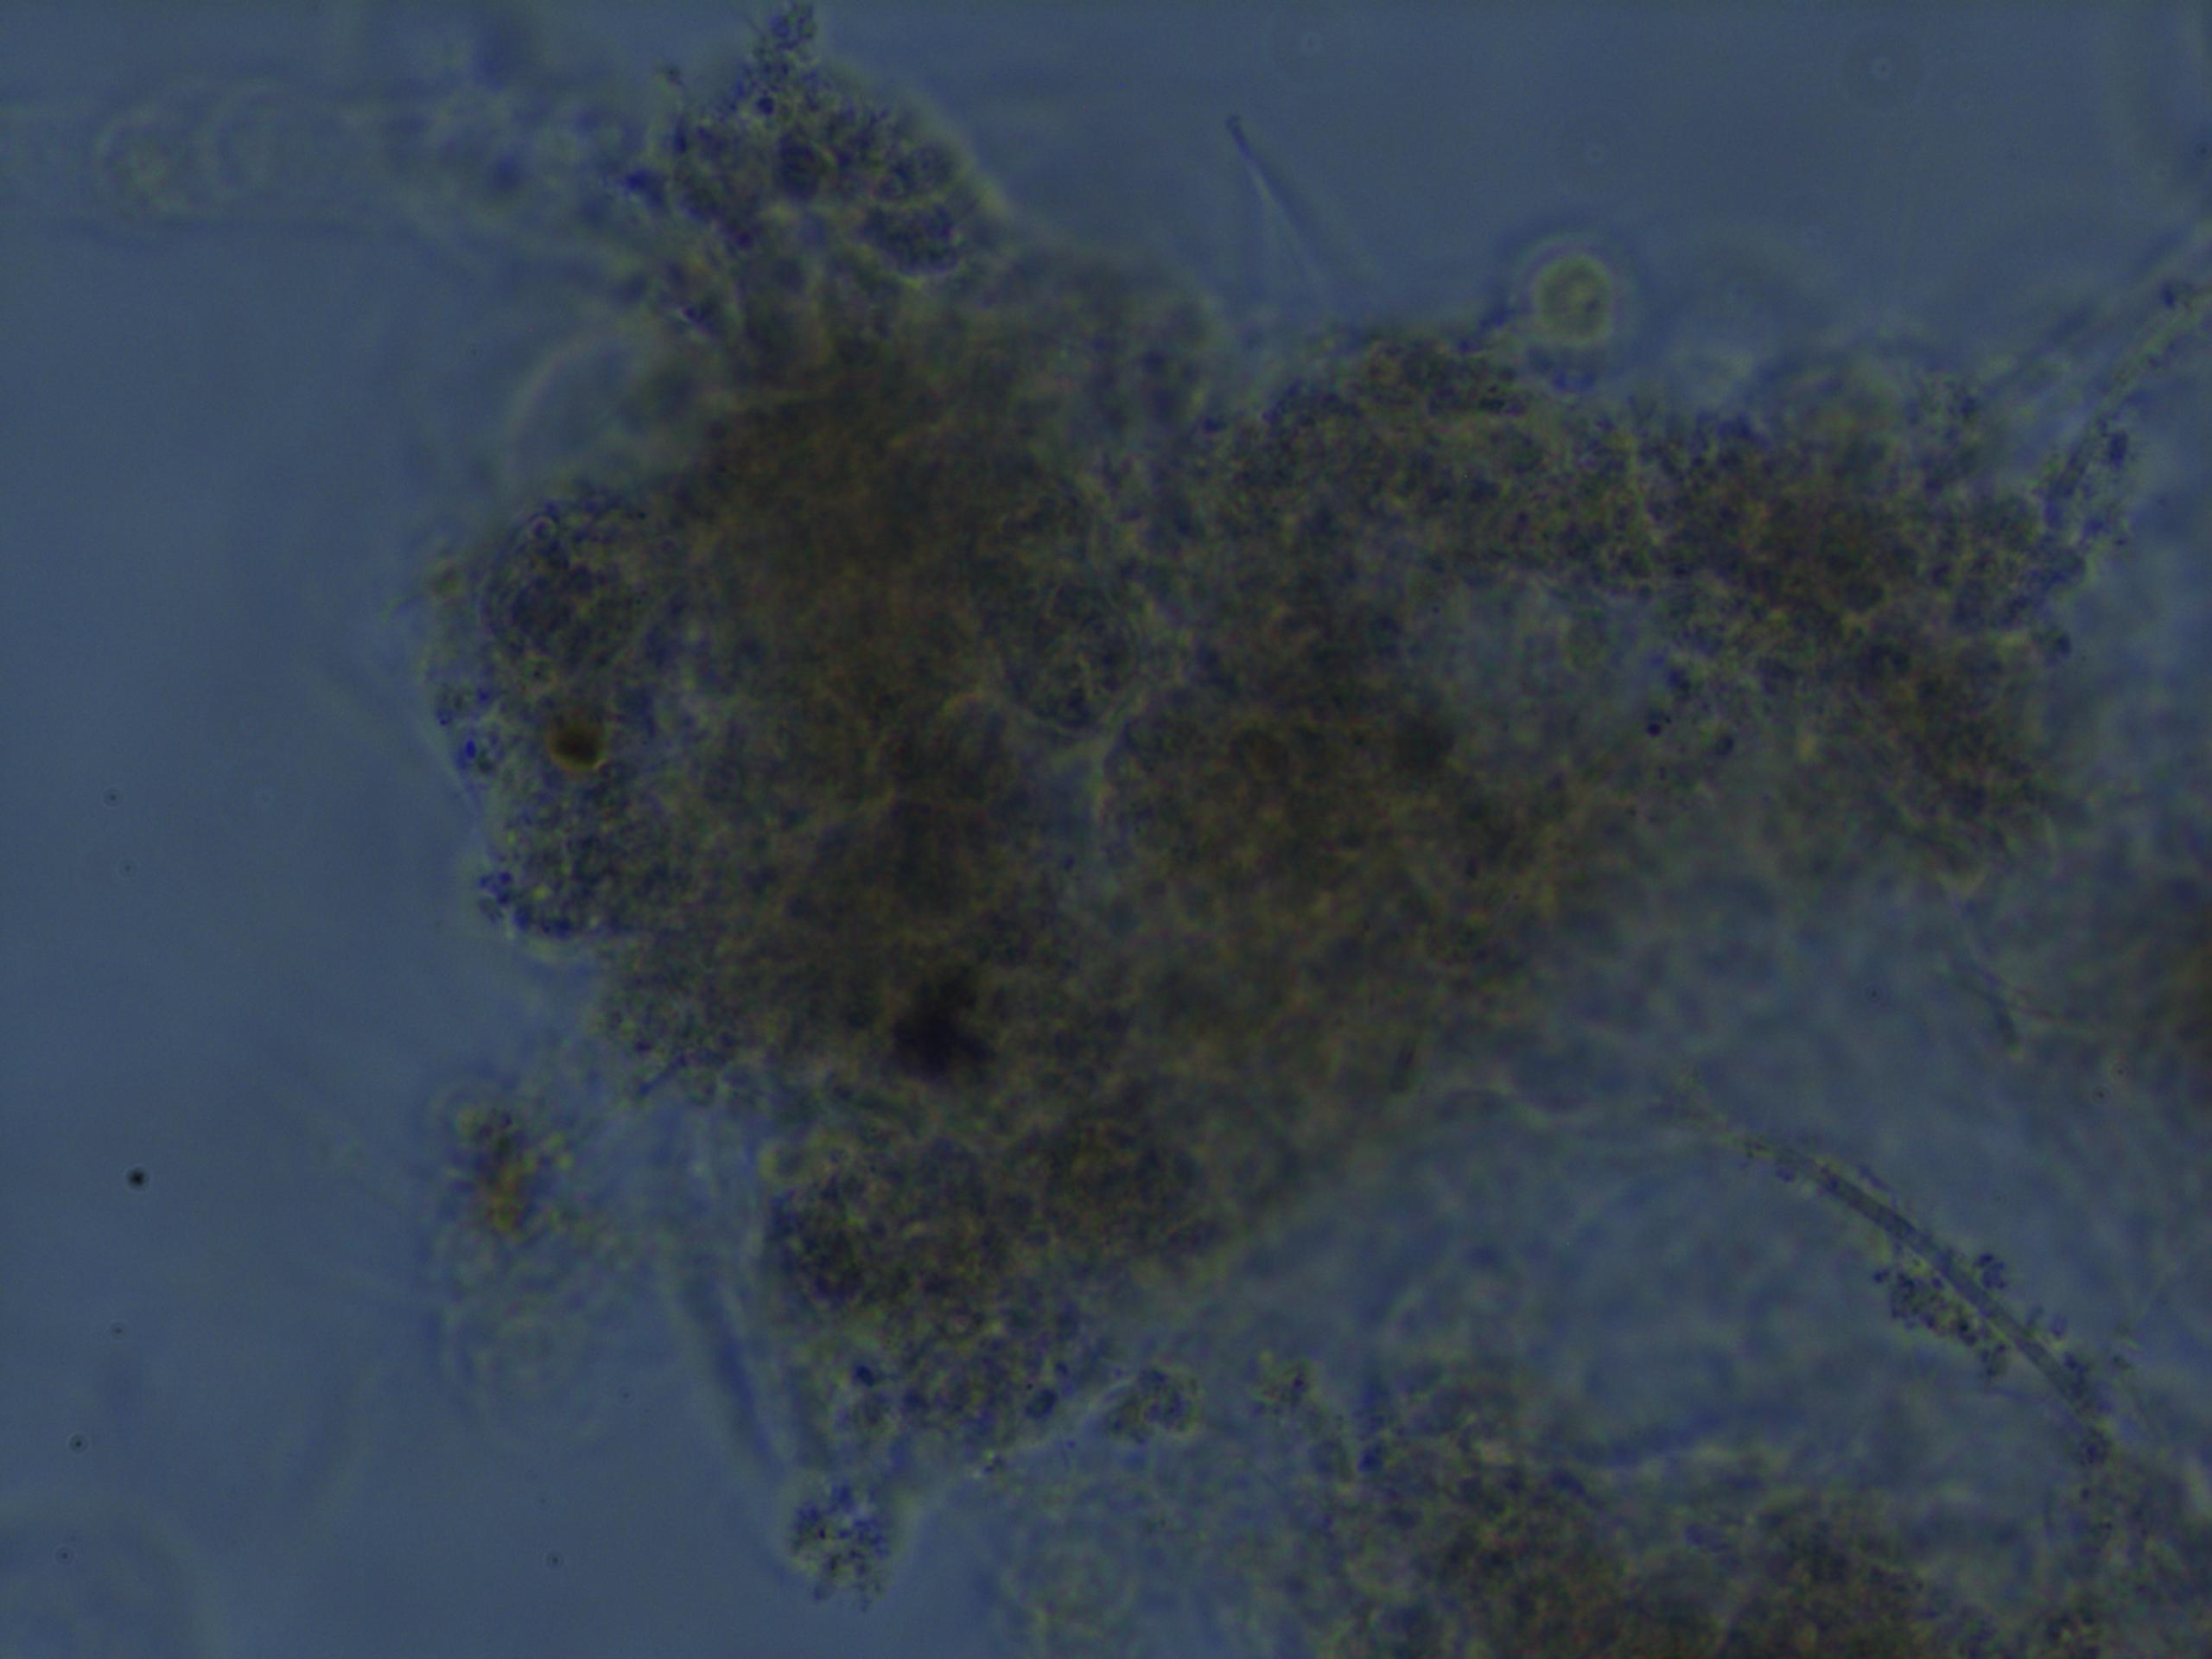filament: (1764, 1148, 2135, 1445), (1972, 157, 2212, 580)
